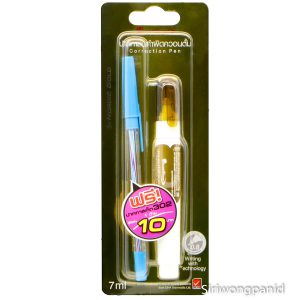Correction_fluid: (150, 81, 187, 283)
